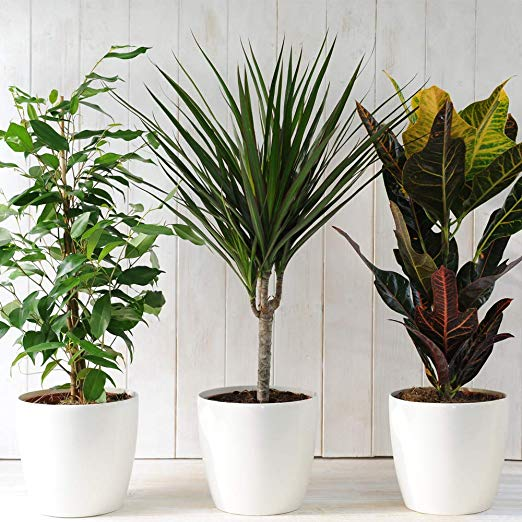plant: (102, 37, 424, 521), (328, 66, 522, 509), (1, 30, 157, 521)
